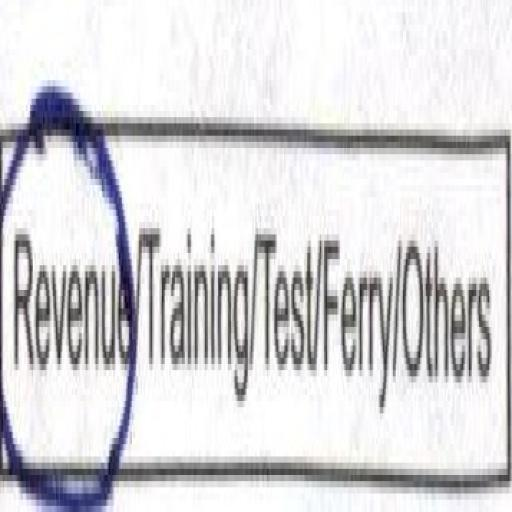check: (0, 43, 138, 506)
